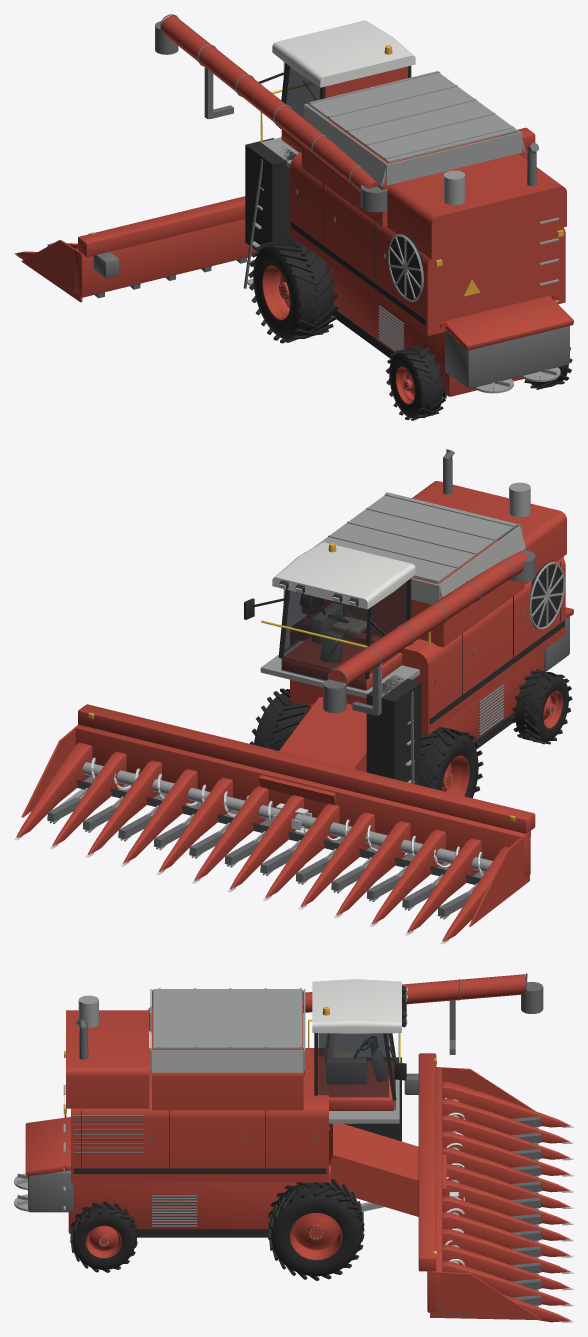
Rendered from combine.glb.
The picture shows the model from 3 angles, top to bottom: view 1: azimuth 30°, elevation 25°; view 2: azimuth 150°, elevation 25°; view 3: azimuth 270°, elevation 25°; orthographic projection. The views are drawn at different scales.
Parts seen in each view (by area): view 1: combine_body, wheel_FL_t, auger_mesh, door_hit, wheel_RL_t, cradle; view 2: combine_body, auger_mesh, door_hit, reel_mesh, wheel_FL_t, wheel_RL_t, wheel_FR_t, cradle; view 3: combine_body, wheel_FR_t, wheel_RR_t, auger_mesh, door_hit, reel_mesh.
Boxes of the visible parts, x1,y1,x2,y2 form: combine_body: (14, 20, 573, 398); wheel_FL_t: (248, 237, 338, 343); auger_mesh: (155, 14, 387, 212); door_hit: (245, 138, 295, 250); wheel_RL_t: (386, 345, 446, 420); cradle: (204, 67, 233, 119); combine_body: (14, 449, 573, 944); auger_mesh: (323, 550, 535, 713); door_hit: (366, 675, 421, 784); reel_mesh: (82, 757, 492, 875); wheel_FL_t: (416, 727, 483, 798); wheel_RL_t: (512, 669, 572, 744); wheel_FR_t: (249, 688, 309, 750); cradle: (352, 663, 381, 715); combine_body: (14, 979, 573, 1322); wheel_FR_t: (268, 1179, 364, 1280); wheel_RR_t: (70, 1201, 137, 1272); auger_mesh: (148, 973, 543, 1032); door_hit: (351, 1057, 401, 1141); reel_mesh: (445, 1098, 465, 1266).
Bounding box in the file's own units: 9.62 × 5.34 × 11.08.
